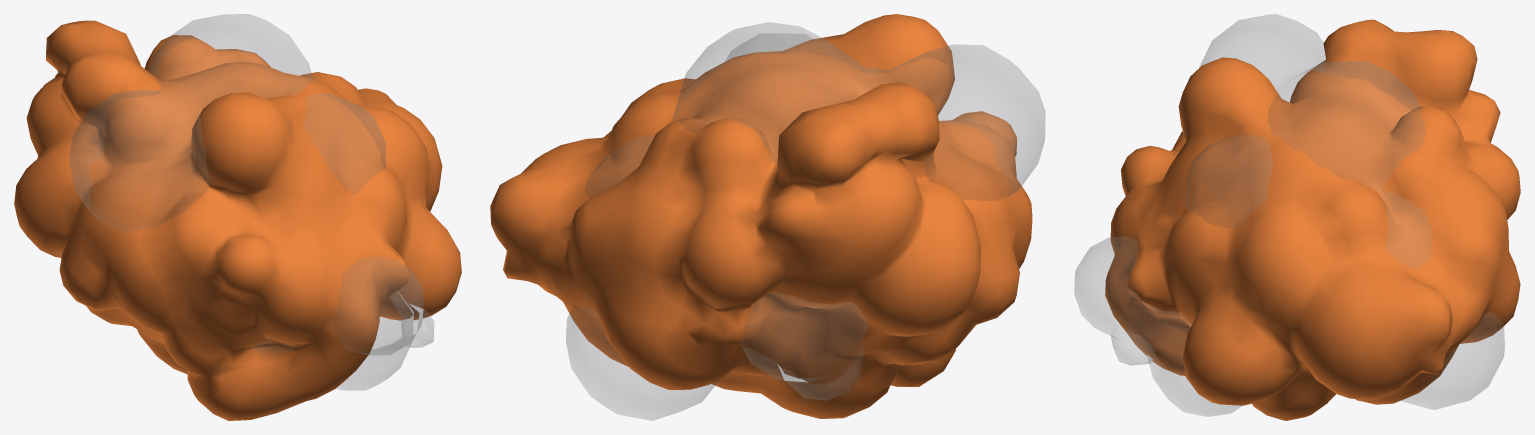
File: hvs_farmables_nimbolium.fbx
3 views of the same model, side by side, from view 1: azimuth 30°, elevation 25°; view 2: azimuth 150°, elevation 25°; view 3: azimuth 270°, elevation 25° (orthographic). The views are drawn at different scales.
Parts seen in each view (by area): view 1: gel.003, core.002; view 2: gel.003, core.002; view 3: gel.003, core.002.
Part boxes in pixels (left/top/right/bottom): gel.003: left=14, top=20, right=461, bottom=420; core.002: left=69, top=14, right=434, bottom=390; gel.003: left=490, top=14, right=1032, bottom=418; core.002: left=566, top=22, right=1045, bottom=420; gel.003: left=1105, top=19, right=1520, bottom=420; core.002: left=1074, top=14, right=1504, bottom=416.
Bounding box in the file's own units: 9.74 × 7.76 × 9.51.
